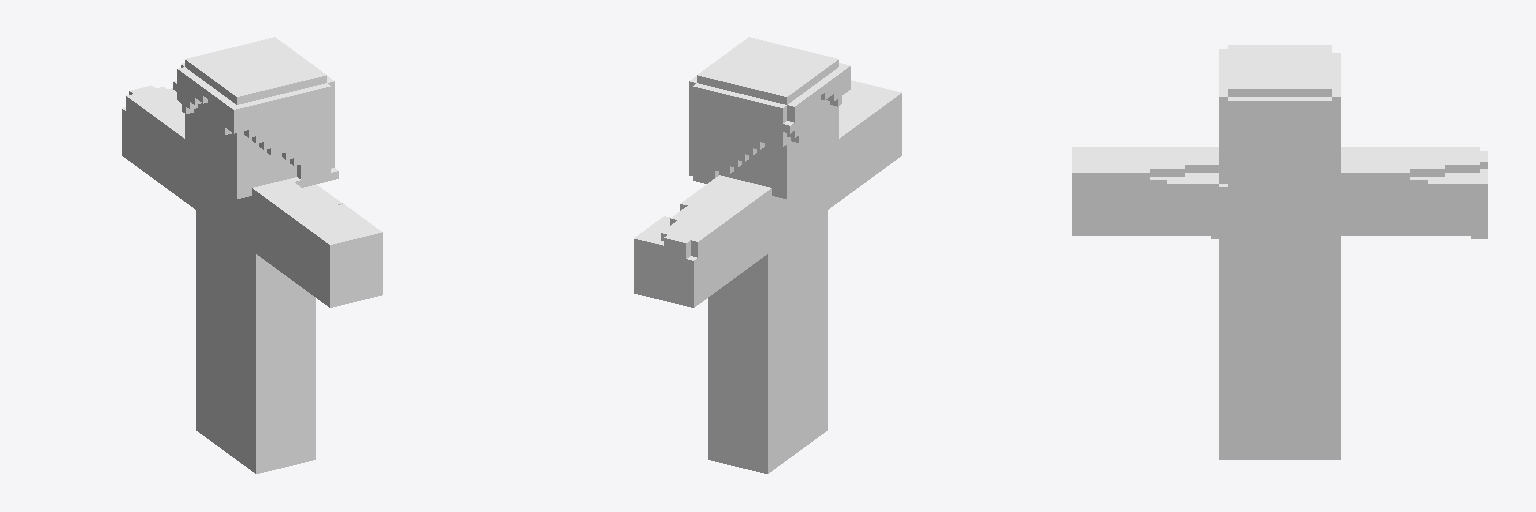
File: personaje.obj
3 renders of one model, left to right at view 1: azimuth 30°, elevation 25°; view 2: azimuth 150°, elevation 25°; view 3: azimuth 270°, elevation 25°, orthographic.
Parts seen in each view (by area): view 1: object 1; view 2: object 1; view 3: object 1.
Boxes of the visible parts, x1,y1,x2,y2 form: object 1: [122, 37, 382, 473]; object 1: [634, 37, 901, 473]; object 1: [1072, 45, 1487, 459].
Size of the model in its own units: 1.4 by 4.8 by 4.8.